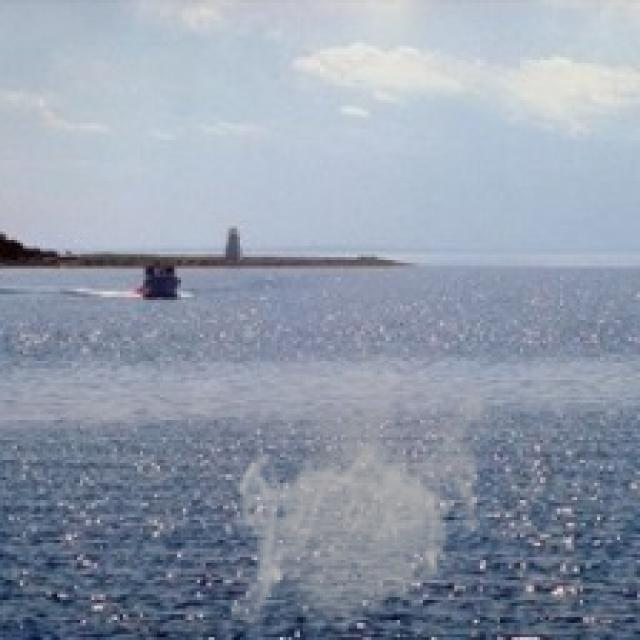Smoke: (232, 354, 497, 634)
